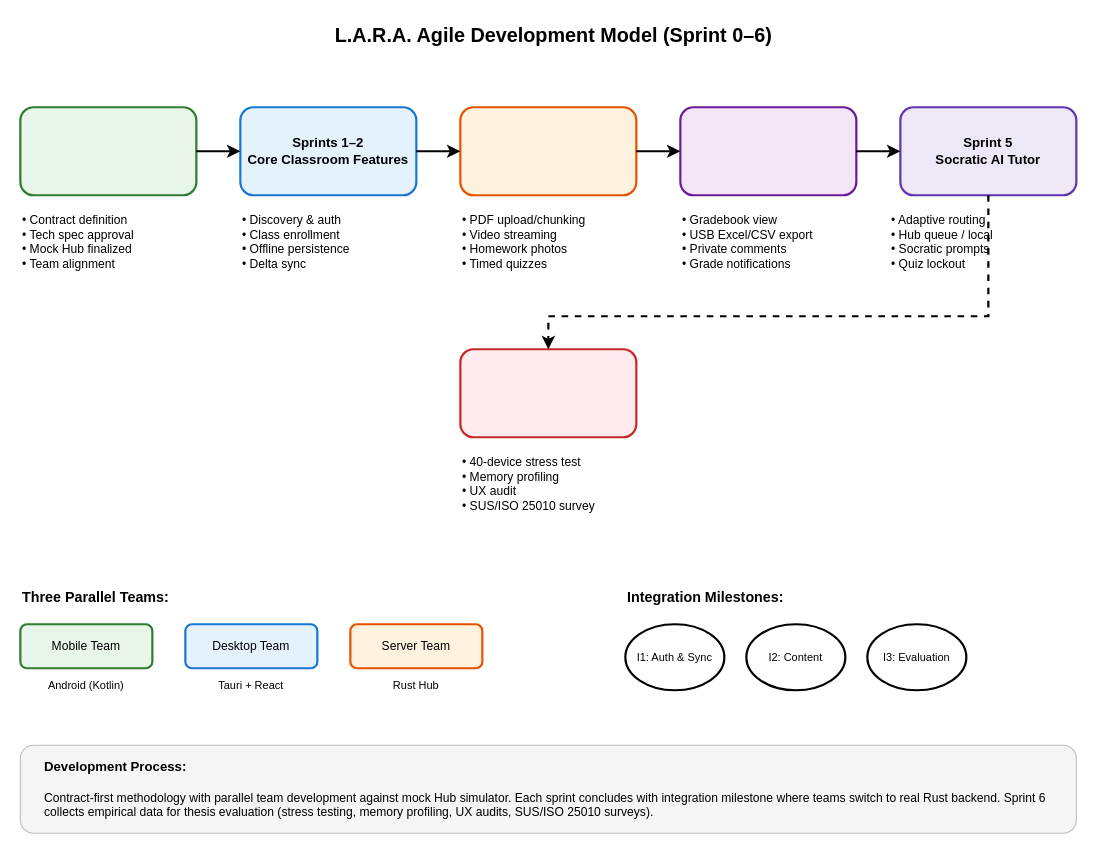
Some shapes in this 1096 by 853 pixel diagram are drawn without their labels. The shapes that lost their labels are listed below. From the top down, each one's box as (x1, y1, x2, y2) in pixels, then its label:
(19, 106, 197, 196): Sprint 0 Foundation & Specification
(459, 106, 637, 196): Sprint 3 Classwork & Assessment
(679, 106, 857, 196): Sprint 4 Grading & Export
(459, 348, 637, 438): Sprint 6 Evaluation & Testing
